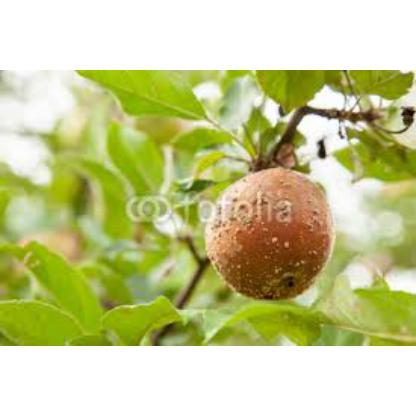apple: (204, 172, 334, 296)
